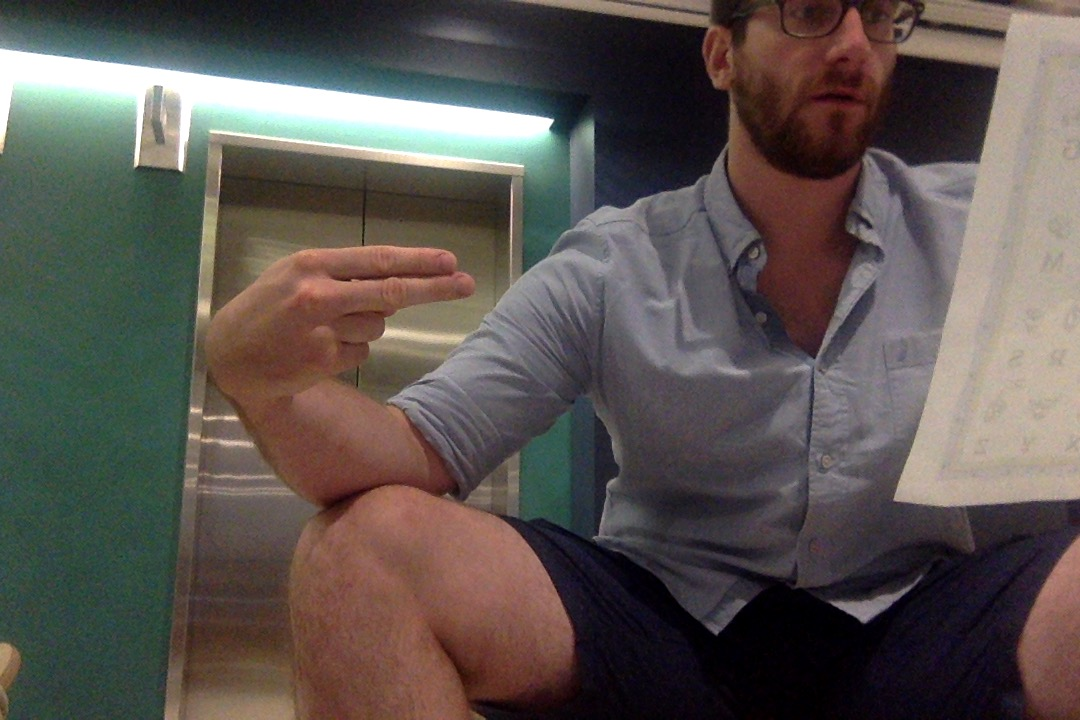h: (199, 241, 481, 393)
